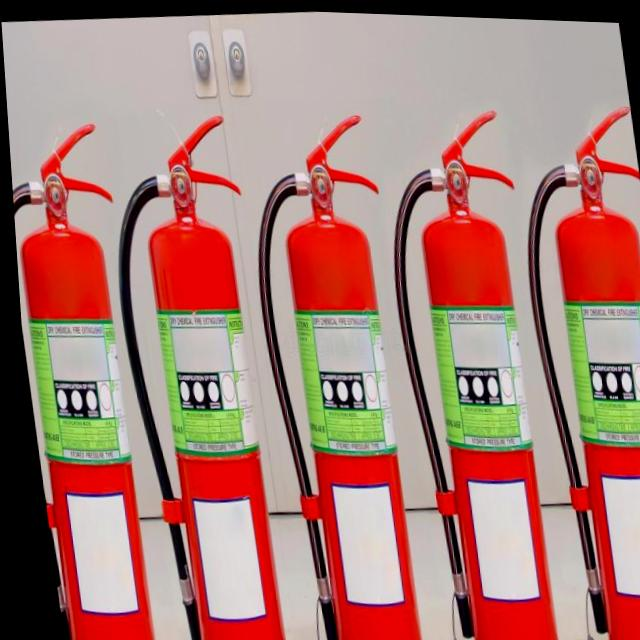FireExtinguisher: (360, 93, 573, 640), (88, 96, 299, 640), (226, 98, 436, 640), (5, 101, 171, 640), (495, 88, 640, 640)
